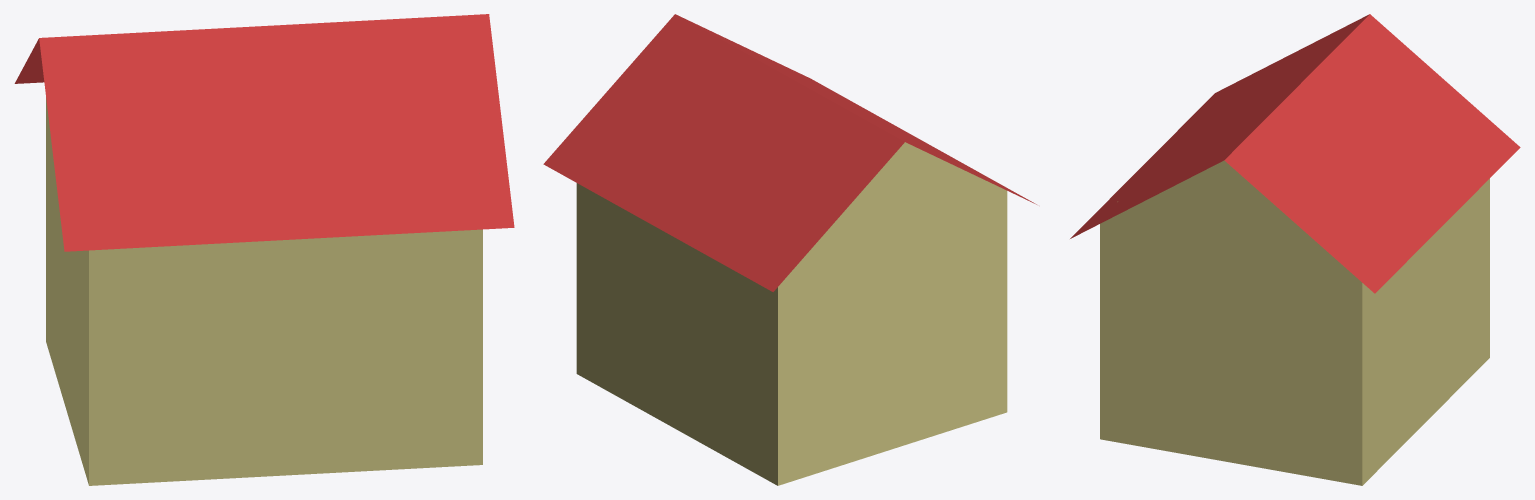
3 renders of one model, left to right at view 1: azimuth 30°, elevation 25°; view 2: azimuth 150°, elevation 25°; view 3: azimuth 270°, elevation 25°, orthographic. The views are drawn at different scales.
Bounding box in the file's own units: 15.18 × 14.42 × 10.99.
